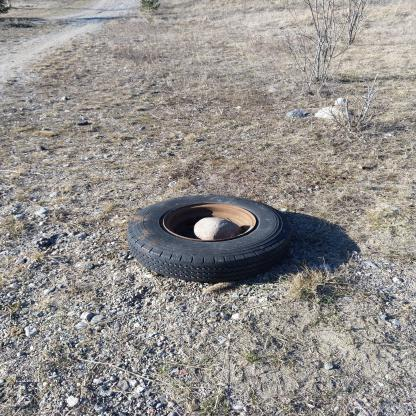diger: (128, 196, 295, 284)
